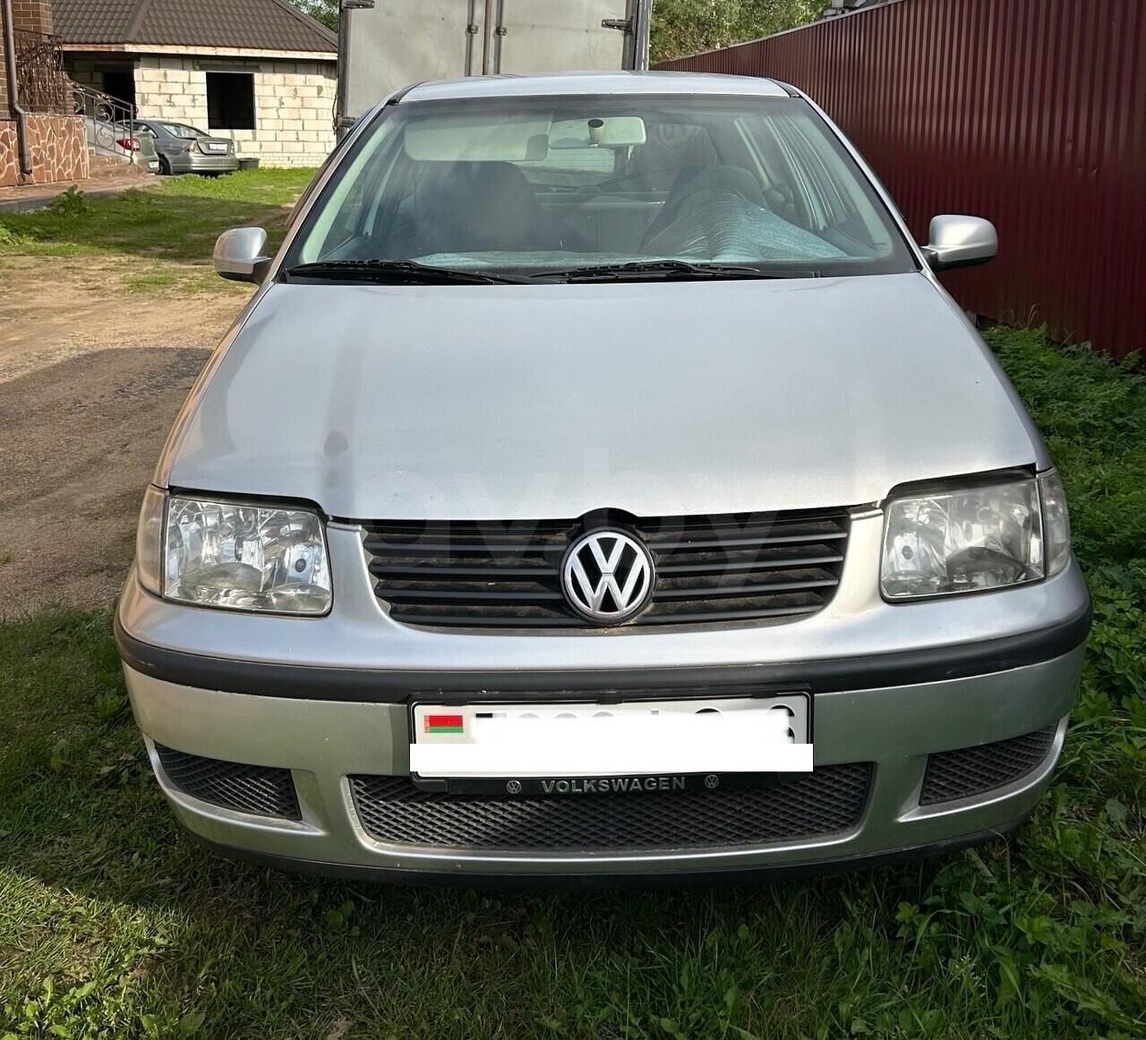Polo_2000-2002: (109, 52, 1093, 883)
